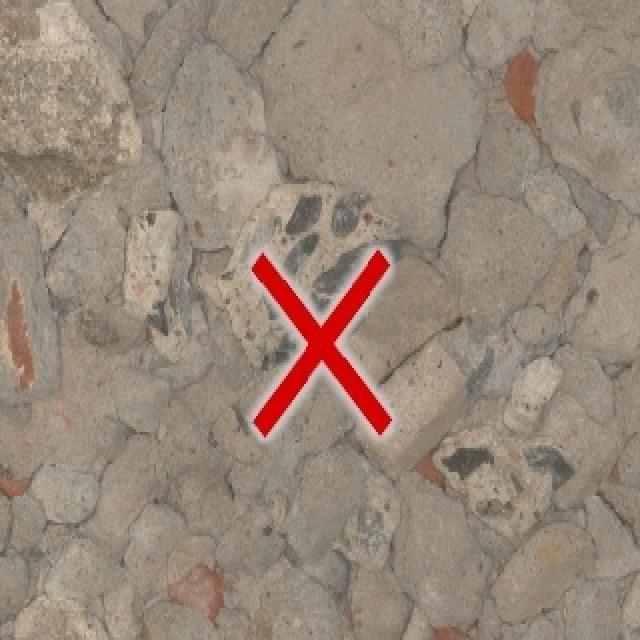x_marker: (251, 249, 391, 436)
